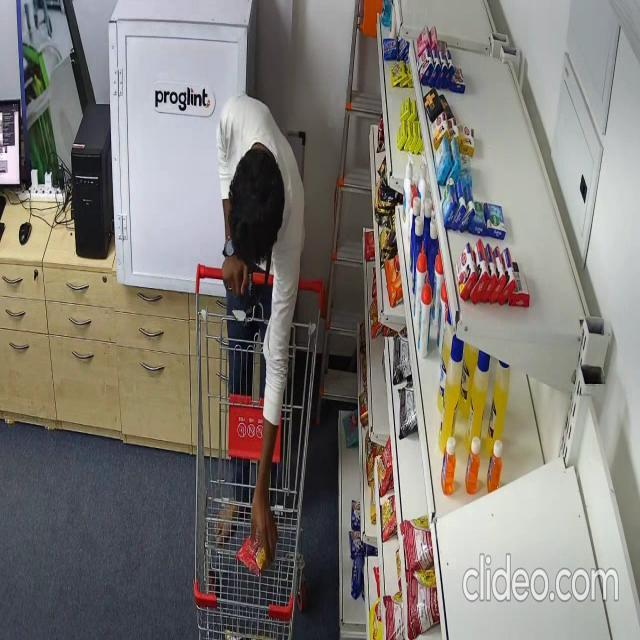normal: (214, 88, 306, 574)
